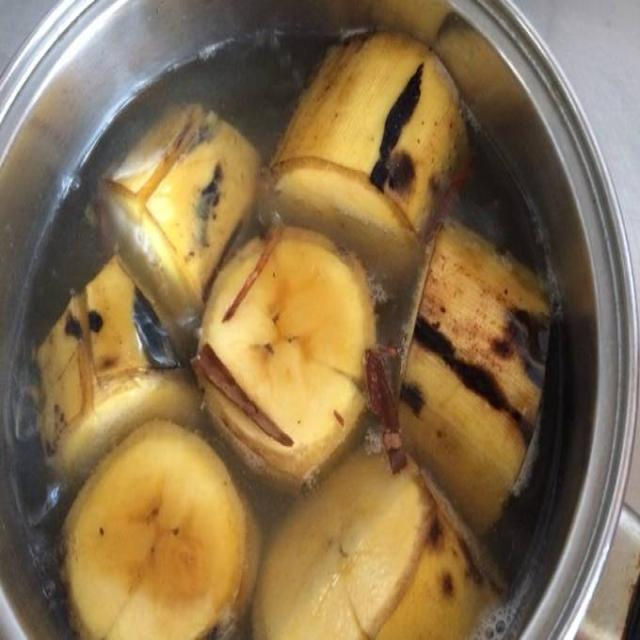platano: (185, 212, 378, 482), (26, 252, 193, 481)
